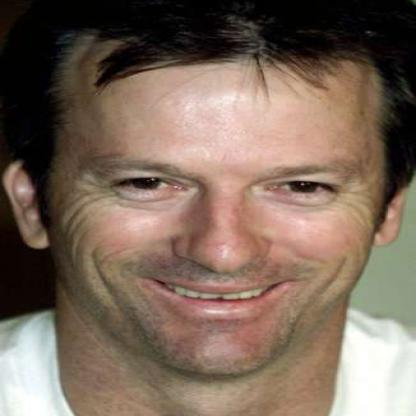face: (45, 1, 392, 378)
